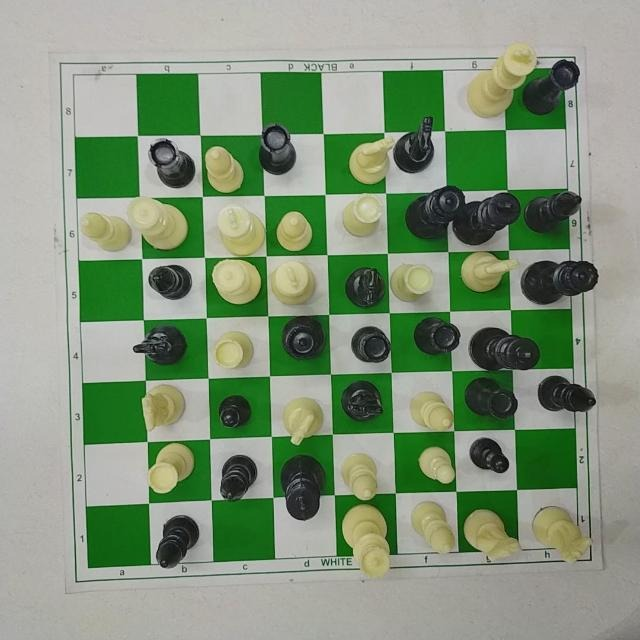black-bishop: (534, 366, 609, 420), (150, 504, 207, 572), (515, 187, 590, 237), (213, 451, 265, 509), (142, 259, 200, 304)
black-king: (461, 317, 544, 373), (268, 446, 329, 521), (450, 187, 522, 247)
black-knight: (385, 105, 445, 174), (124, 315, 192, 375), (338, 260, 390, 314), (336, 373, 385, 428)
black-pawn: (464, 433, 514, 479), (211, 394, 263, 434)
black-queen: (400, 178, 469, 250), (517, 253, 601, 309), (275, 311, 333, 367)
black-rook: (515, 54, 591, 121), (460, 373, 524, 427), (141, 133, 201, 188), (248, 119, 303, 178), (344, 318, 394, 372), (409, 311, 465, 358)
white-bishop: (399, 493, 461, 562), (403, 381, 461, 437), (75, 205, 137, 257), (199, 138, 247, 198), (338, 448, 385, 502), (273, 204, 320, 256)
white-king: (464, 38, 552, 123), (213, 200, 268, 258), (267, 257, 323, 313)
white-knight: (522, 498, 597, 572), (459, 507, 521, 570), (338, 129, 400, 191), (137, 377, 195, 443), (275, 386, 331, 451), (457, 242, 516, 297)
white-pawn: (418, 441, 458, 487)
white-queen: (337, 502, 396, 589), (123, 187, 195, 253), (208, 252, 263, 307)
white-rook: (143, 438, 204, 502), (387, 253, 440, 313), (205, 330, 259, 377), (339, 189, 388, 238)
